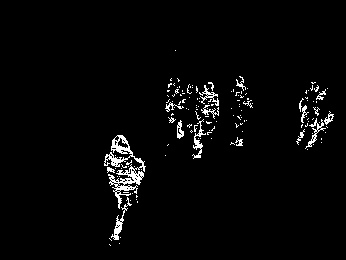person: (104, 135, 146, 241), (307, 88, 336, 149), (196, 82, 219, 158), (230, 76, 253, 146), (166, 76, 184, 139), (181, 81, 200, 135), (299, 81, 315, 145)
